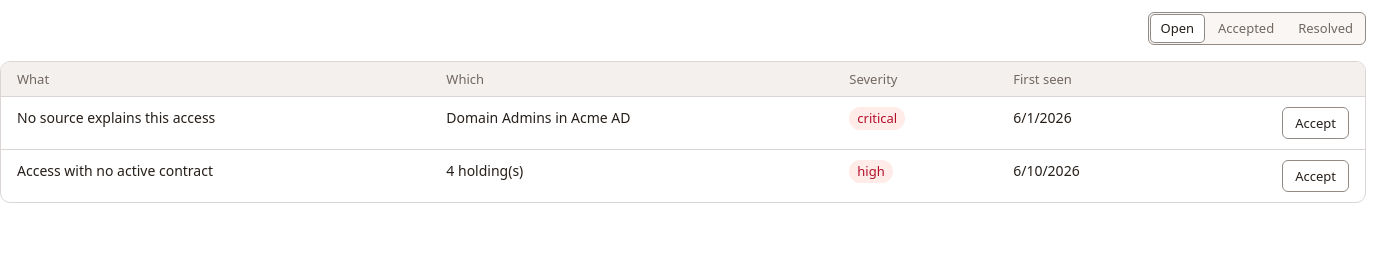
Test: GovernFindingsTab › says an empty filter is a filter, and offers the way back to the open queue
This screenshot has width=1378, height=265.
expect the text "Domain Admins in Acme AD" is shown: met, box [430,97,833,150]
Click the button "Accepted": (1246, 28) [1208,15,1284,42]
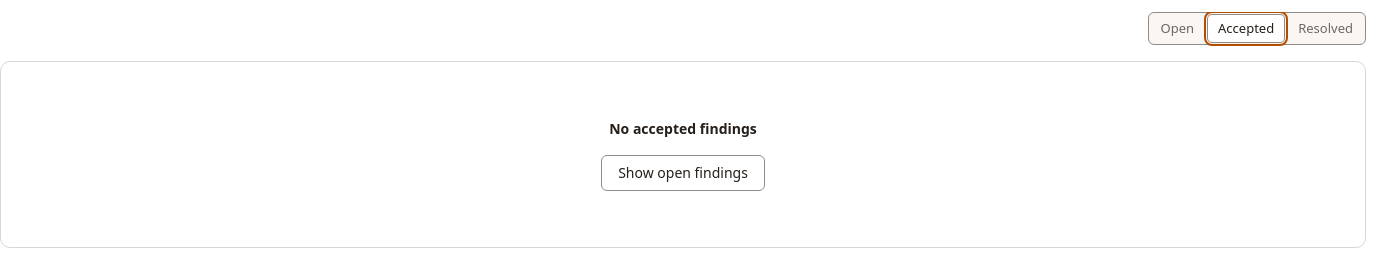
expect the text "No accepted findings" is shown: met, box [609,119,757,138]
Click the button "Show open findings": (683, 173) [601,155,765,191]
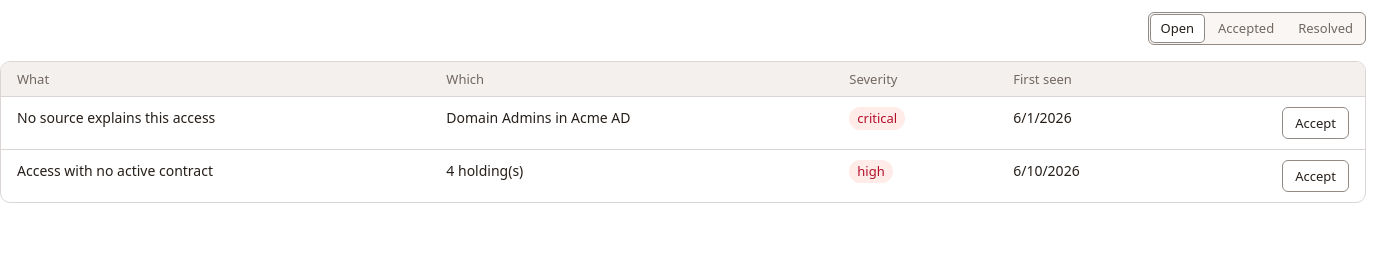
expect the text "Domain Admins in Acme AD" is shown: met, box [430,97,833,150]
